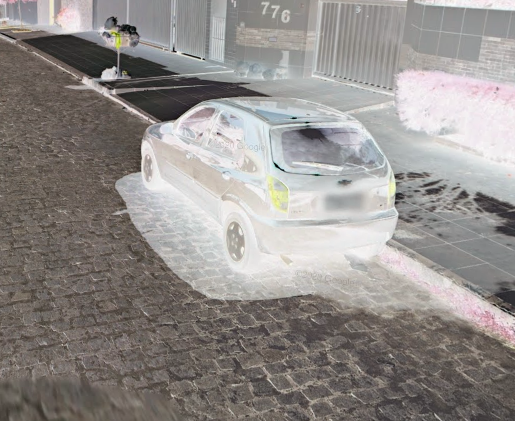car: (139, 94, 401, 274)
